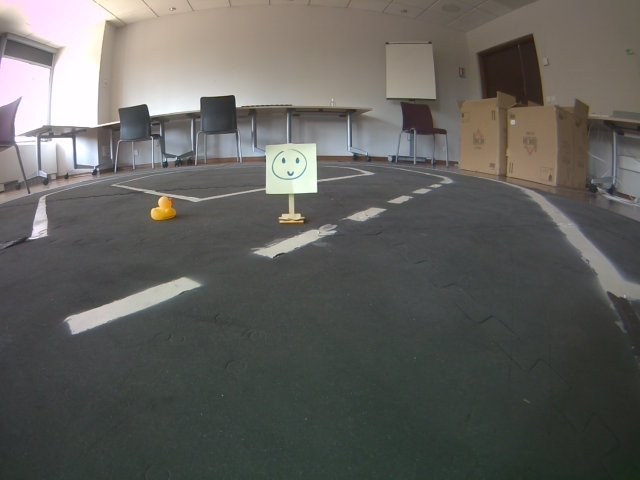Smiley: (262, 142, 321, 196)
